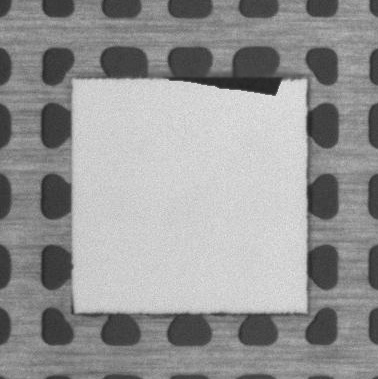DIE_BROKEN: (164, 71, 286, 94)
